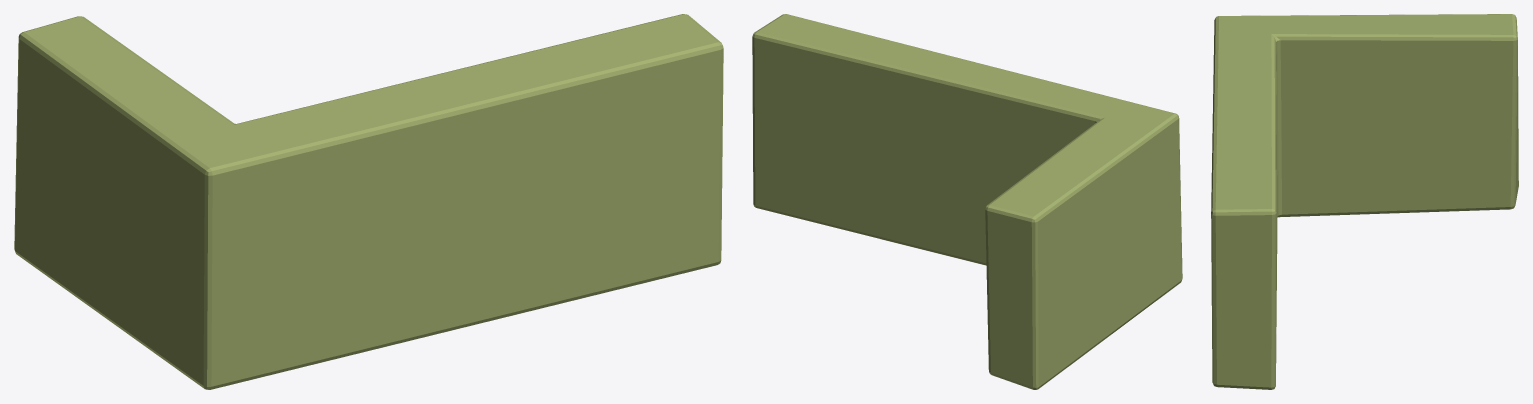
File: Wall piece 1 collider.fbx
3 renders of one model, left to right at view 1: azimuth 30°, elevation 25°; view 2: azimuth 150°, elevation 25°; view 3: azimuth 270°, elevation 25°, orthographic. The views are drawn at different scales.
Parts seen in each view (by area): view 1: wall piece 1 collider; view 2: wall piece 1 collider; view 3: wall piece 1 collider.
Boxes of the visible parts, x1,y1,x2,y2 form: wall piece 1 collider: (14, 14, 723, 389); wall piece 1 collider: (752, 14, 1182, 389); wall piece 1 collider: (1211, 14, 1518, 389).
Bounding box in the file's own units: 1044 × 668 × 438.
